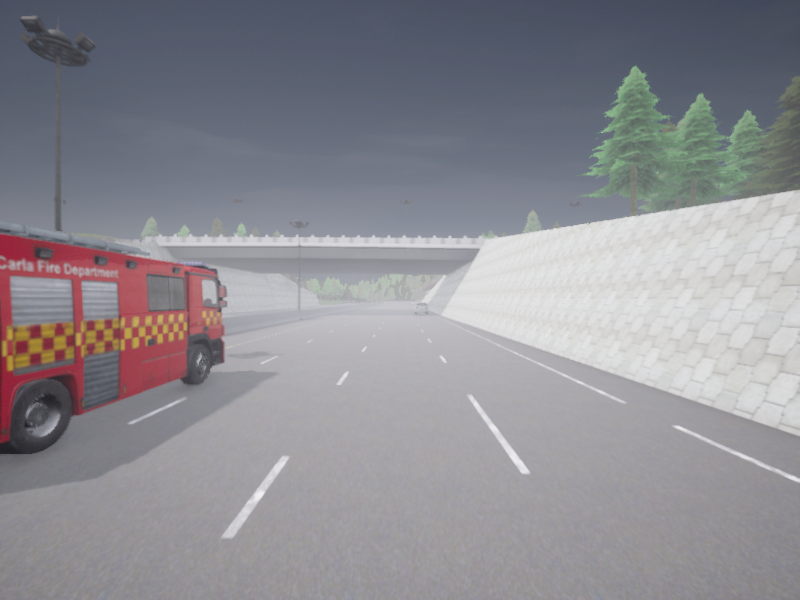vehicle: (0, 220, 227, 454), (413, 302, 427, 314)
